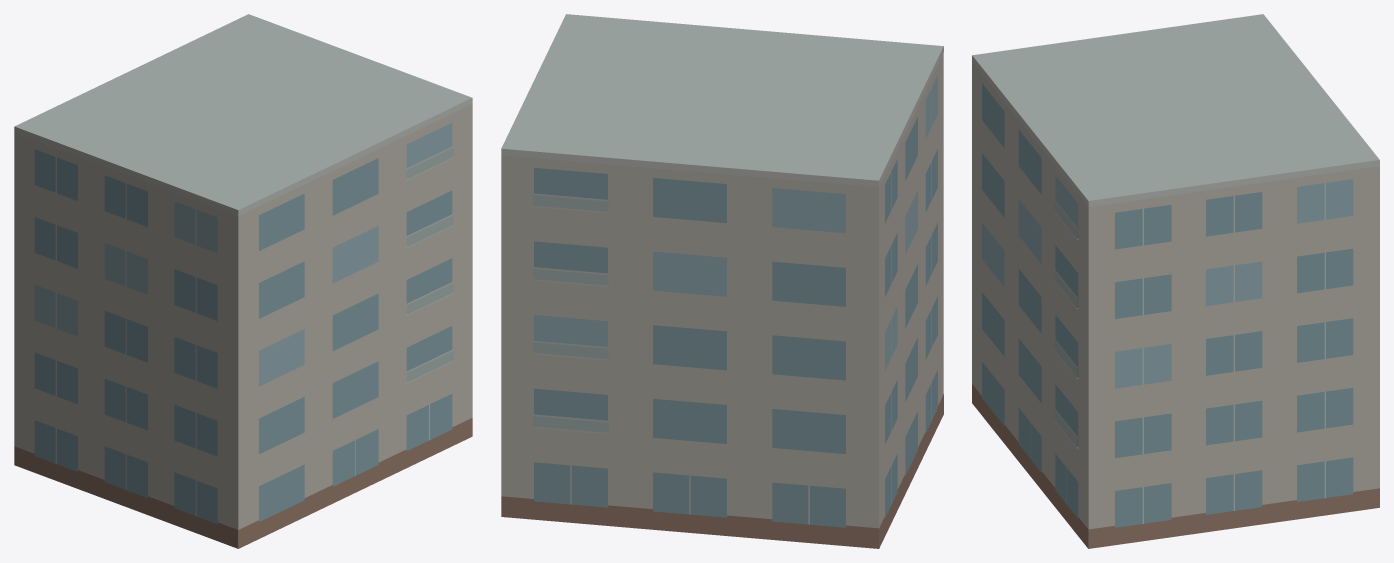
File: survey-upis-32905041.glb
3 renders of one model, left to right at view 1: azimuth 30°, elevation 25°; view 2: azimuth 150°, elevation 25°; view 3: azimuth 270°, elevation 25°, orthographic. The views are drawn at different scales.
Visible parts, largest first — view 1: survey-upis-32905041.tmp; view 2: survey-upis-32905041.tmp; view 3: survey-upis-32905041.tmp.
Boxes of the visible parts, box(x1,y1,x2,y2) form: survey-upis-32905041.tmp: box(14, 14, 472, 548); survey-upis-32905041.tmp: box(501, 14, 943, 548); survey-upis-32905041.tmp: box(972, 14, 1379, 548).
Size of the model in its own units: 15.8 by 13.7 by 14.56.
